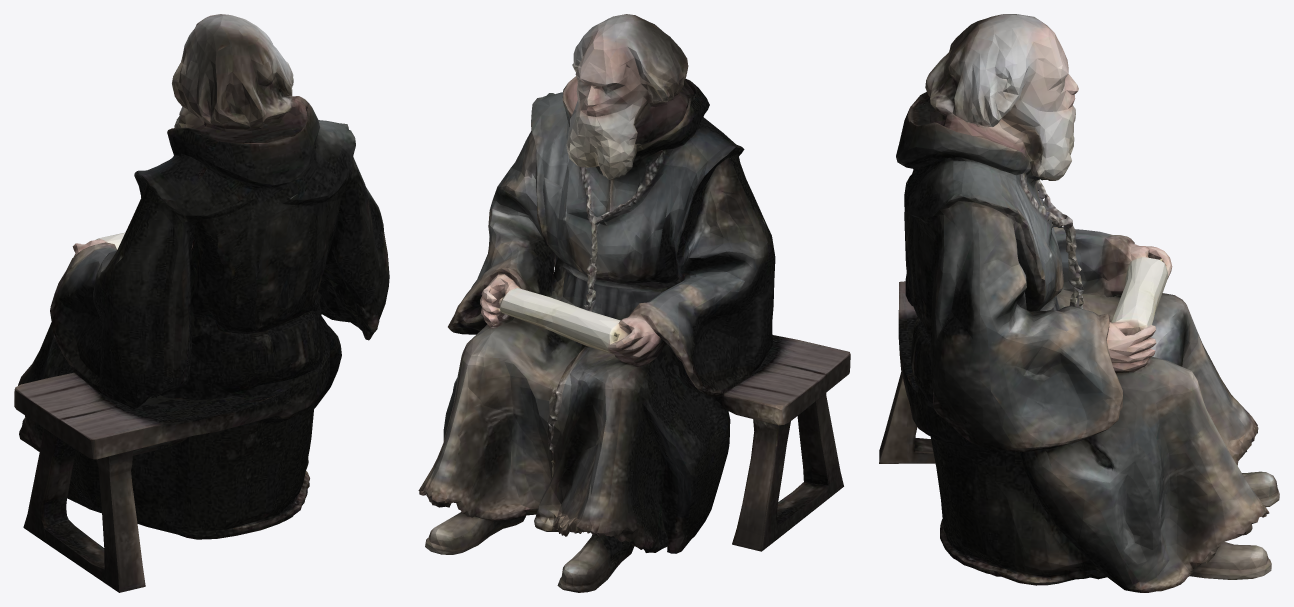
File: council_chaplain.glb
3 renders of one model, left to right at view 1: azimuth 30°, elevation 25°; view 2: azimuth 150°, elevation 25°; view 3: azimuth 270°, elevation 25°, orthographic. The views are drawn at different scales.
Visible parts, largest first — view 1: geometry_0; view 2: geometry_0; view 3: geometry_0.
Part boxes in pixels (<box>): geometry_0: <box>14,14,389,592</box>; geometry_0: <box>418,14,850,592</box>; geometry_0: <box>879,14,1279,592</box>.
Bounding box in the file's own units: 0.9354 × 1.3 × 0.9062.
1 material, 1 textured.
